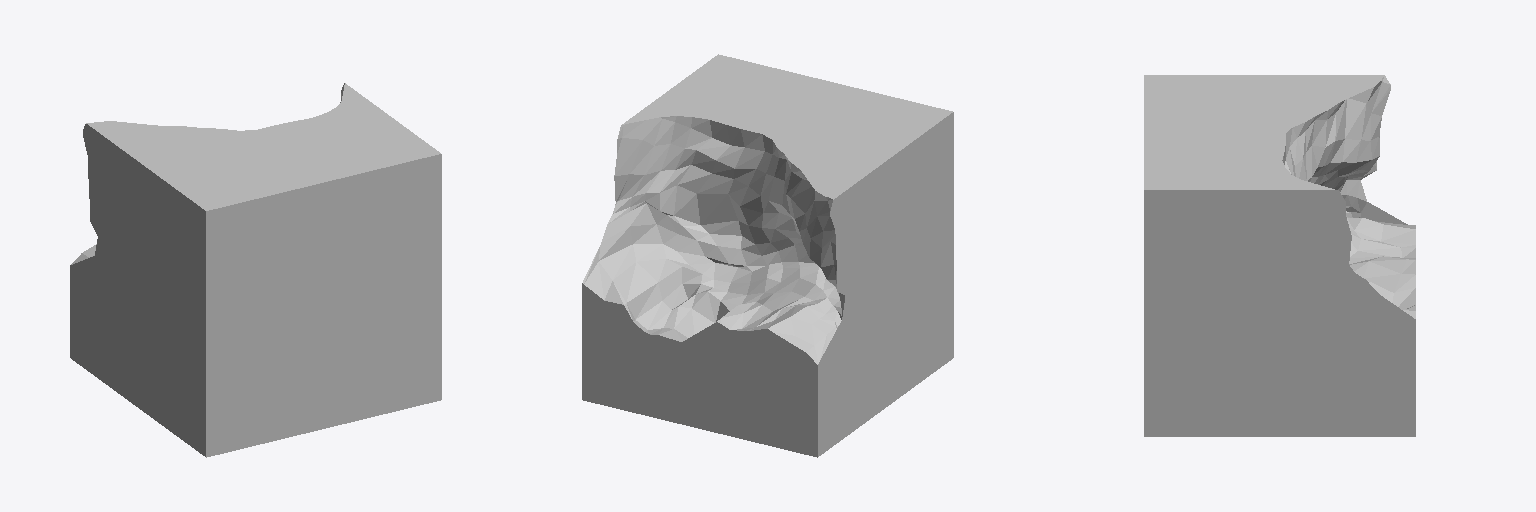
Rendered from trouDroite.obj.
3 views of the same model, side by side, from view 1: azimuth 30°, elevation 25°; view 2: azimuth 150°, elevation 25°; view 3: azimuth 270°, elevation 25° (orthographic).
Parts seen in each view (by area): view 1: Cube; view 2: Cube; view 3: Cube.
Boxes of the visible parts, x1=… form: Cube: x1=70, y1=83, x2=441, y2=457; Cube: x1=582, y1=54, x2=953, y2=457; Cube: x1=1144, y1=75, x2=1415, y2=436.
Size of the model in its own units: 3 by 3 by 3.